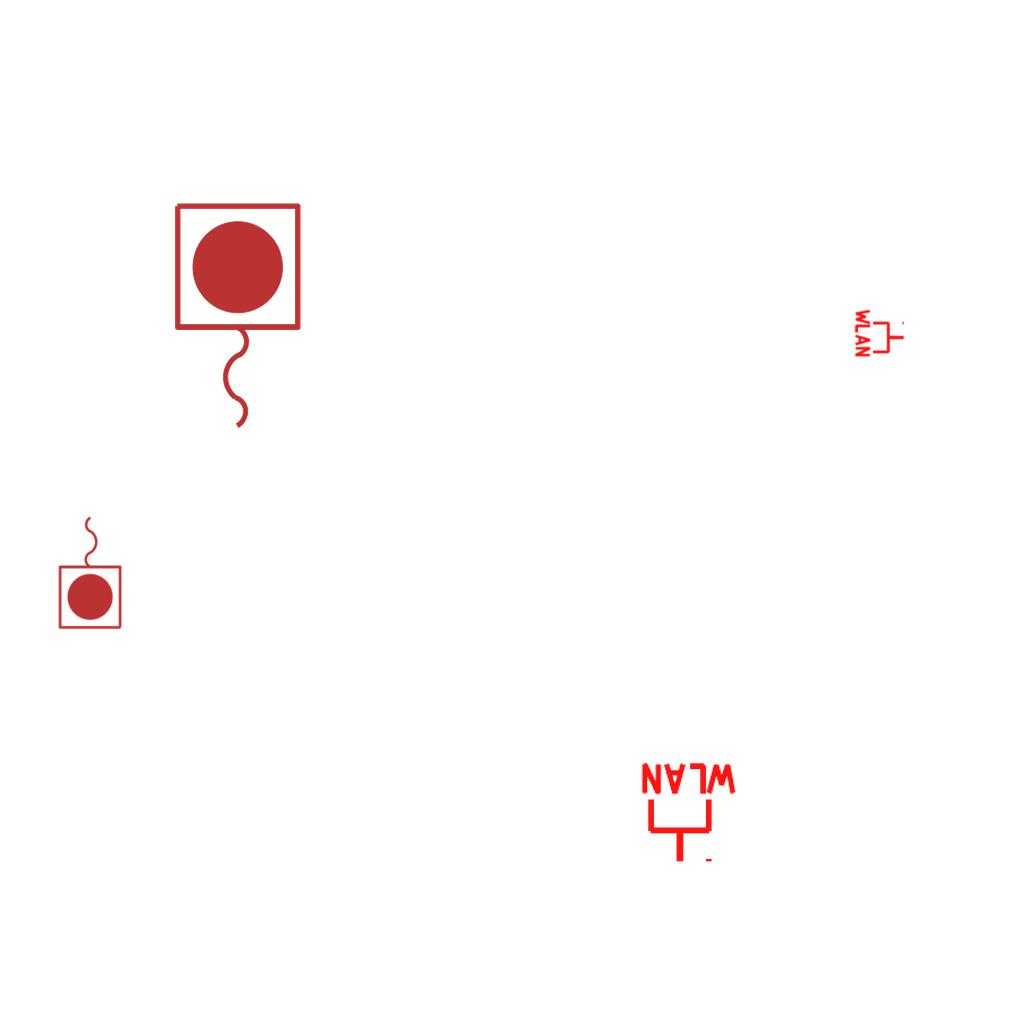WLAN: (637, 761, 741, 866), (854, 307, 906, 359)
Zugtaster: (164, 195, 308, 439), (55, 511, 127, 633)
